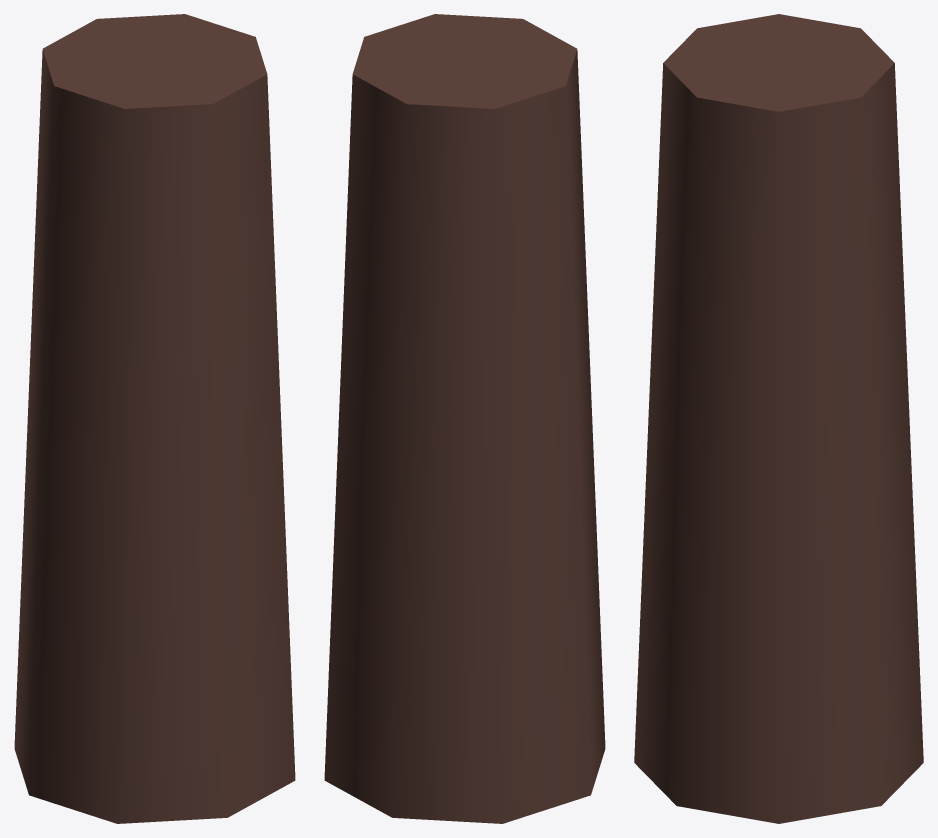
Rendered from wooden-bollard-authored-atlas.glb.
3 renders of one model, left to right at view 1: azimuth 30°, elevation 25°; view 2: azimuth 150°, elevation 25°; view 3: azimuth 270°, elevation 25°, orthographic.
Parts seen in each view (by area): view 1: Authored surface.002; view 2: Authored surface.002; view 3: Authored surface.002.
Boxes of the visible parts, x1=… form: Authored surface.002: x1=14, y1=14, x2=295, y2=823; Authored surface.002: x1=324, y1=14, x2=605, y2=823; Authored surface.002: x1=634, y1=14, x2=923, y2=823.
Size of the model in its own units: 0.3 by 0.8 by 0.3.
Materials: 1 (1 with a texture image).
